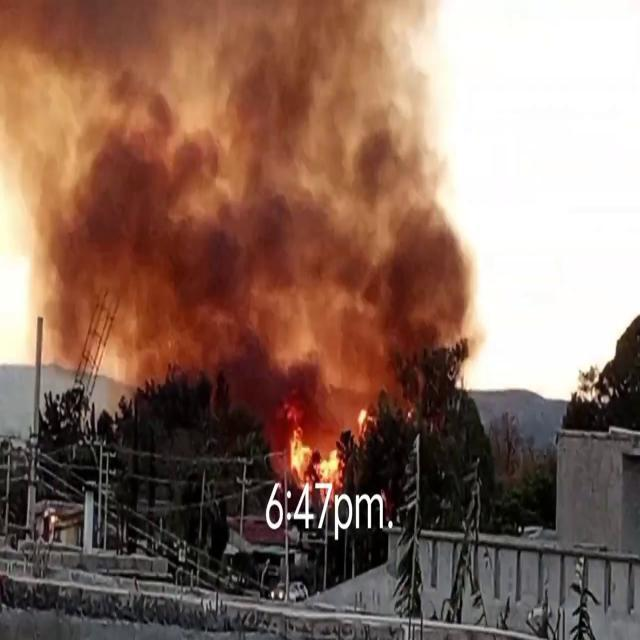Fire: (284, 426, 346, 492)
Smoke: (1, 1, 486, 406)
